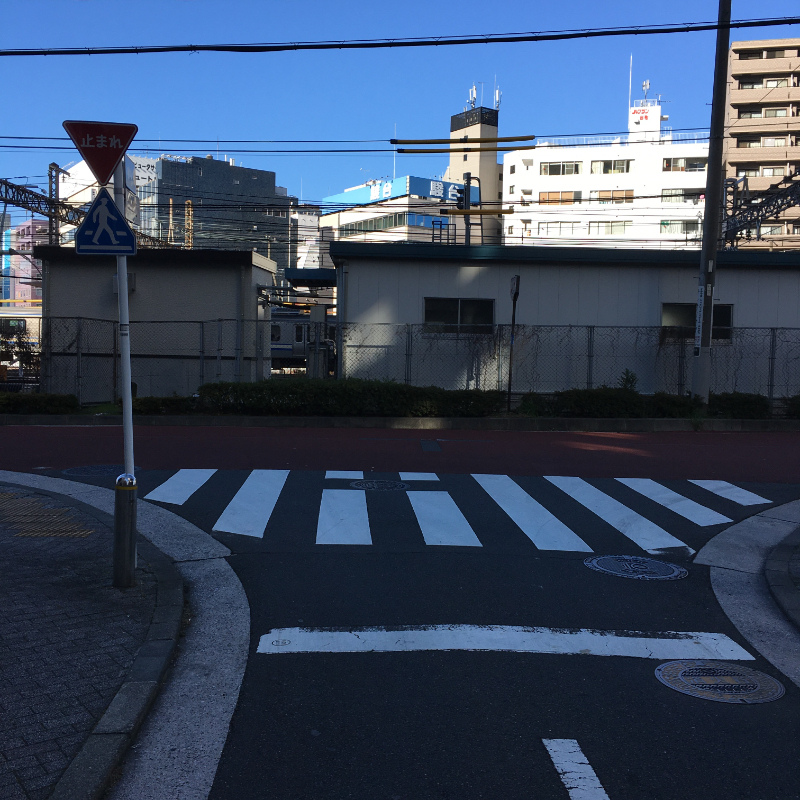STOP: (58, 120, 141, 189)
